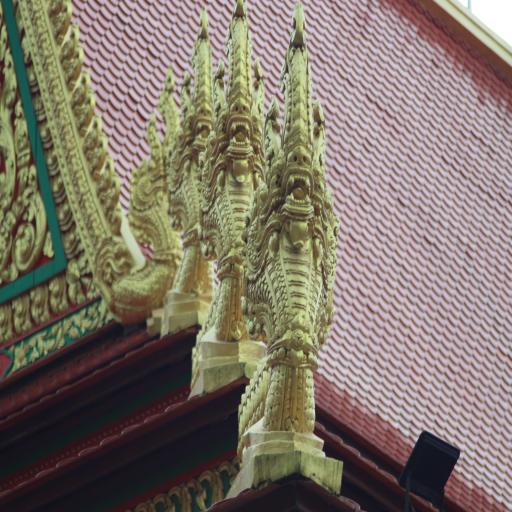hoa: (12, 337, 37, 371)
la: (64, 303, 104, 341), (36, 316, 64, 359)
lua: (62, 47, 88, 87), (83, 110, 106, 154), (70, 70, 94, 106), (104, 174, 124, 215), (97, 160, 119, 194), (61, 25, 80, 64), (90, 137, 111, 172), (54, 3, 72, 42), (79, 91, 97, 126)
ran: (244, 22, 342, 436), (201, 18, 269, 344), (174, 10, 224, 296), (122, 86, 178, 312)
